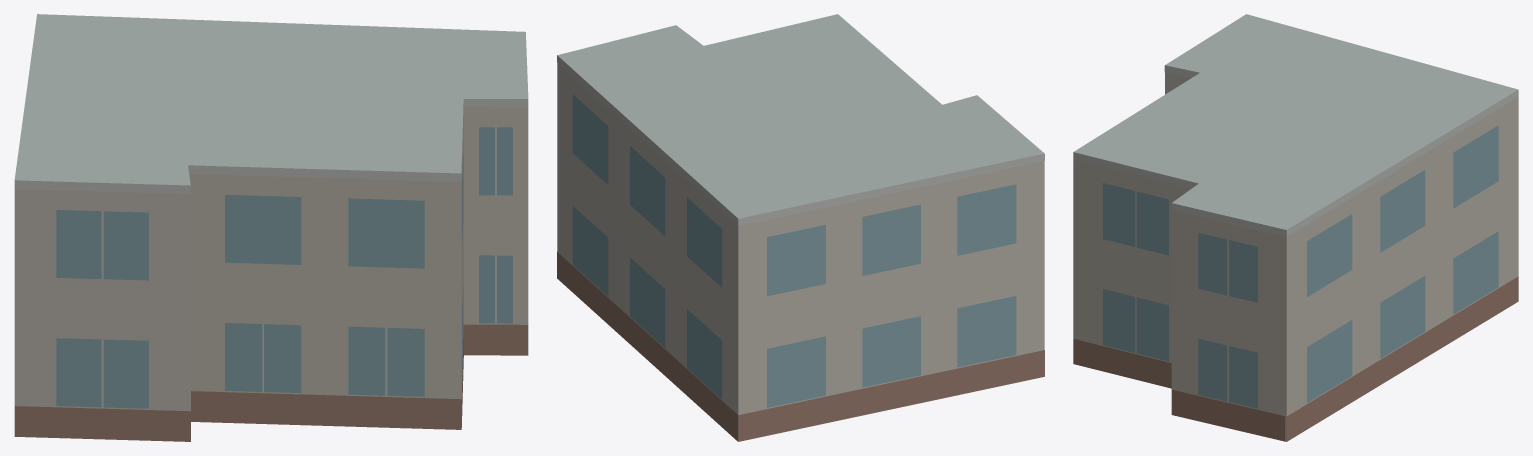
Rendered from survey-upis-32480780.glb.
3 renders of one model, left to right at view 1: azimuth 30°, elevation 25°; view 2: azimuth 150°, elevation 25°; view 3: azimuth 270°, elevation 25°, orthographic. The views are drawn at different scales.
Parts seen in each view (by area): view 1: survey-upis-32480780.tmp; view 2: survey-upis-32480780.tmp; view 3: survey-upis-32480780.tmp.
Boxes of the visible parts, x1,y1,x2,y2 form: survey-upis-32480780.tmp: (14, 14, 528, 441); survey-upis-32480780.tmp: (557, 14, 1044, 441); survey-upis-32480780.tmp: (1073, 14, 1518, 441).
Size of the model in its own units: 15.97 by 7.3 by 13.92.
